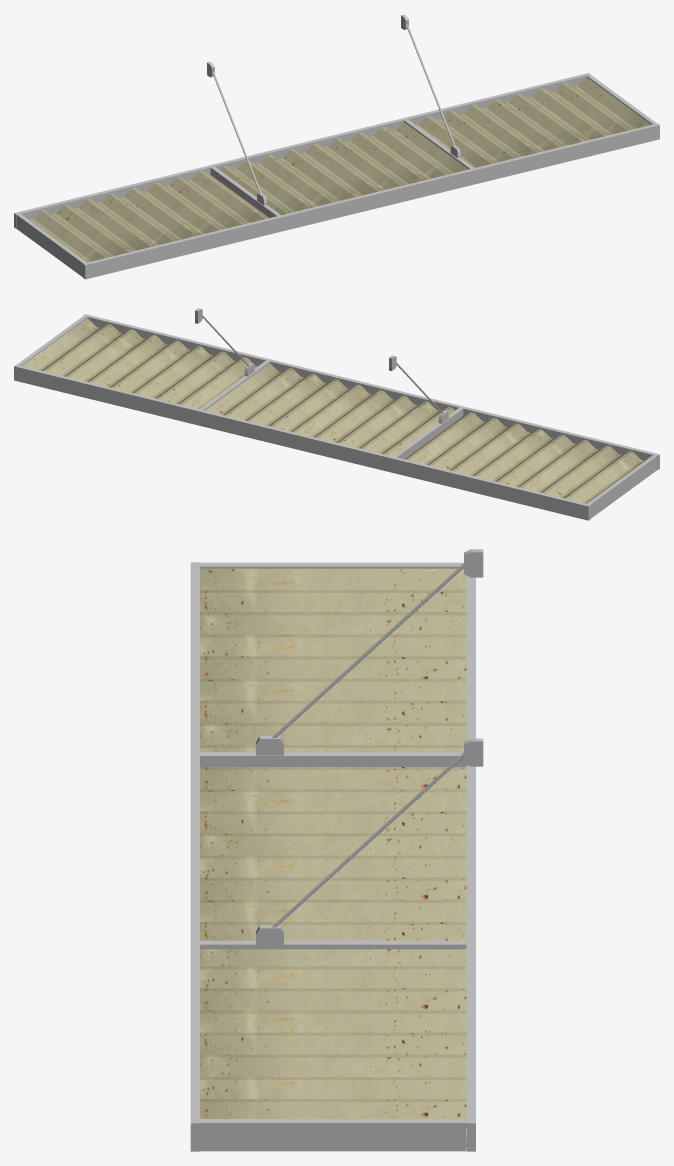
The model's file is raincover04b.fbx.
3 renders of one model, top to bottom at view 1: azimuth 30°, elevation 25°; view 2: azimuth 150°, elevation 25°; view 3: azimuth 270°, elevation 25°, orthographic. The views are drawn at different scales.
Parts seen in each view (by area): view 1: raincover04b; view 2: raincover04b; view 3: raincover04b.
Part boxes in pixels (bbox=[...]): raincover04b: bbox=[14, 14, 659, 279]; raincover04b: bbox=[14, 308, 659, 520]; raincover04b: bbox=[190, 549, 483, 1151].
Bounding box in the file's own units: 1721 × 332 × 379.
